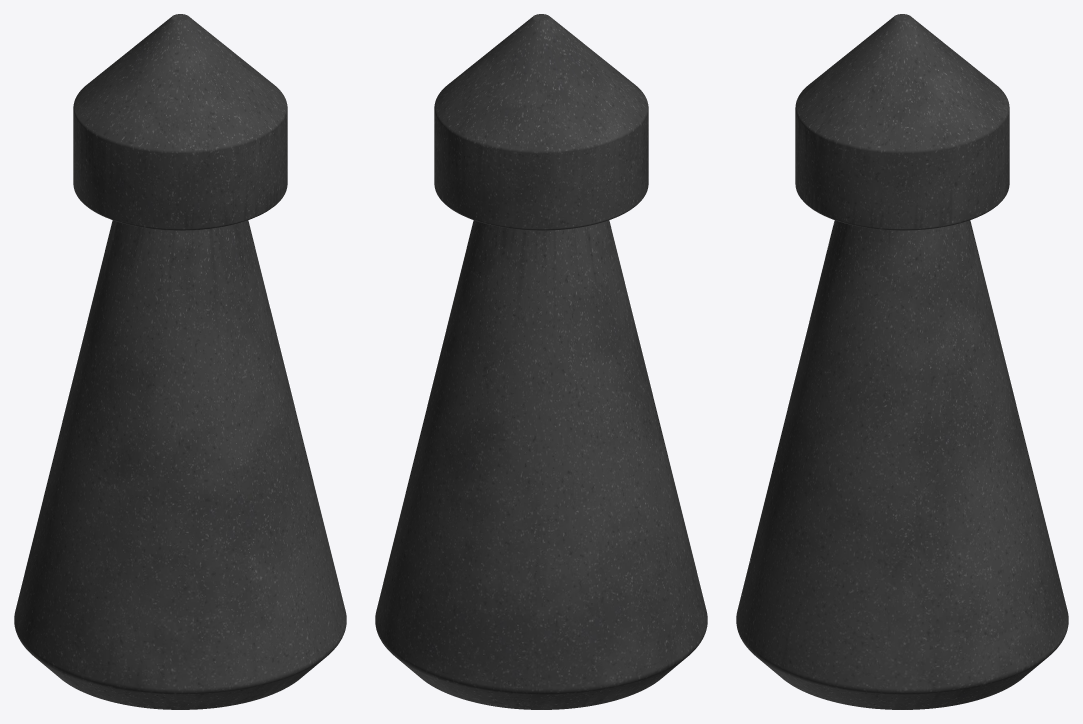
Rendered from bishop-black-hd.glb.
3 renders of one model, left to right at view 1: azimuth 30°, elevation 25°; view 2: azimuth 150°, elevation 25°; view 3: azimuth 270°, elevation 25°, orthographic.
Parts seen in each view (by area): view 1: 06_strelec_cerna; view 2: 06_strelec_cerna; view 3: 06_strelec_cerna.
Boxes of the visible parts, x1,y1,x2,y2 form: 06_strelec_cerna: [14, 14, 346, 709]; 06_strelec_cerna: [375, 14, 707, 709]; 06_strelec_cerna: [736, 14, 1068, 709].
Size of the model in its own units: 0.7153 by 1.51 by 0.7153.
1 material, 1 textured.
